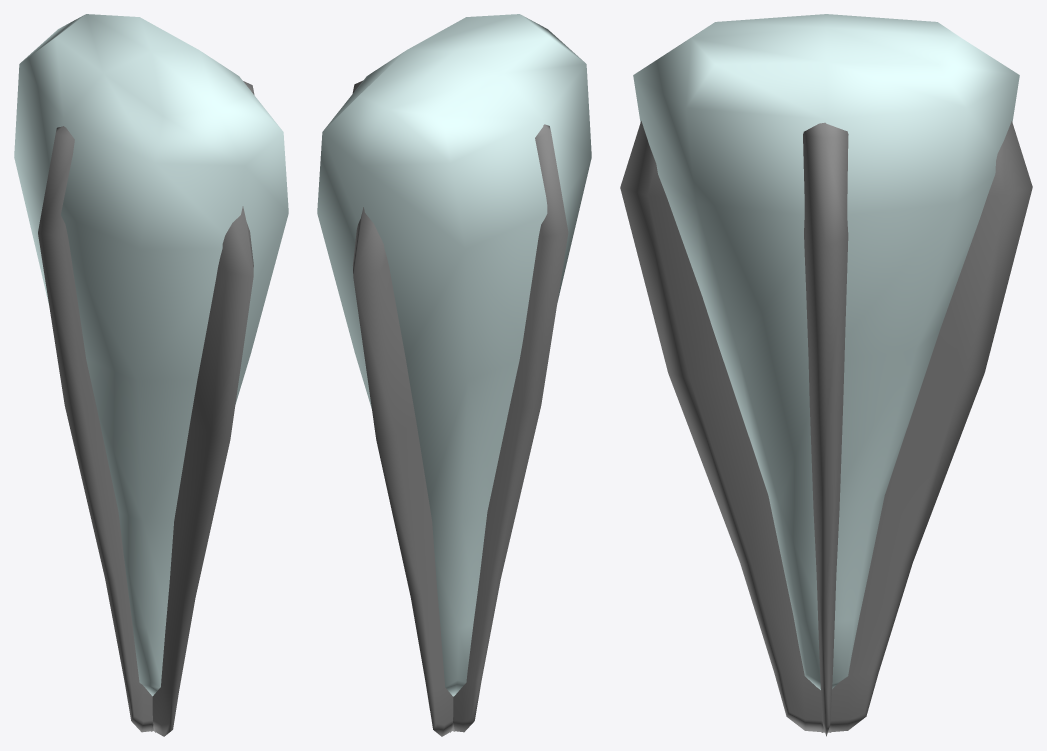
File: Fins.fbx
The picture shows the model from 3 angles, left to right: view 1: azimuth 30°, elevation 25°; view 2: azimuth 150°, elevation 25°; view 3: azimuth 270°, elevation 25°; orthographic projection. The views are drawn at different scales.
Visible parts, largest first — view 1: Cube.070; view 2: Cube.070; view 3: Cube.070.
Boxes of the visible parts, x1,y1,x2,y2 form: Cube.070: (14,14,288,736); Cube.070: (317,14,591,736); Cube.070: (620,14,1032,736).
Size of the model in its own units: 188 by 527 by 280.
